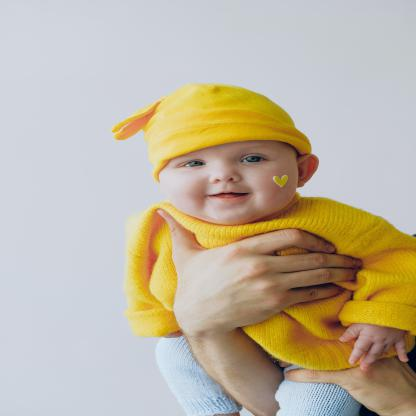Eye: (239, 153, 270, 164), (176, 159, 206, 168)
Mouth: (206, 190, 252, 203)
Nose: (210, 164, 244, 183)
